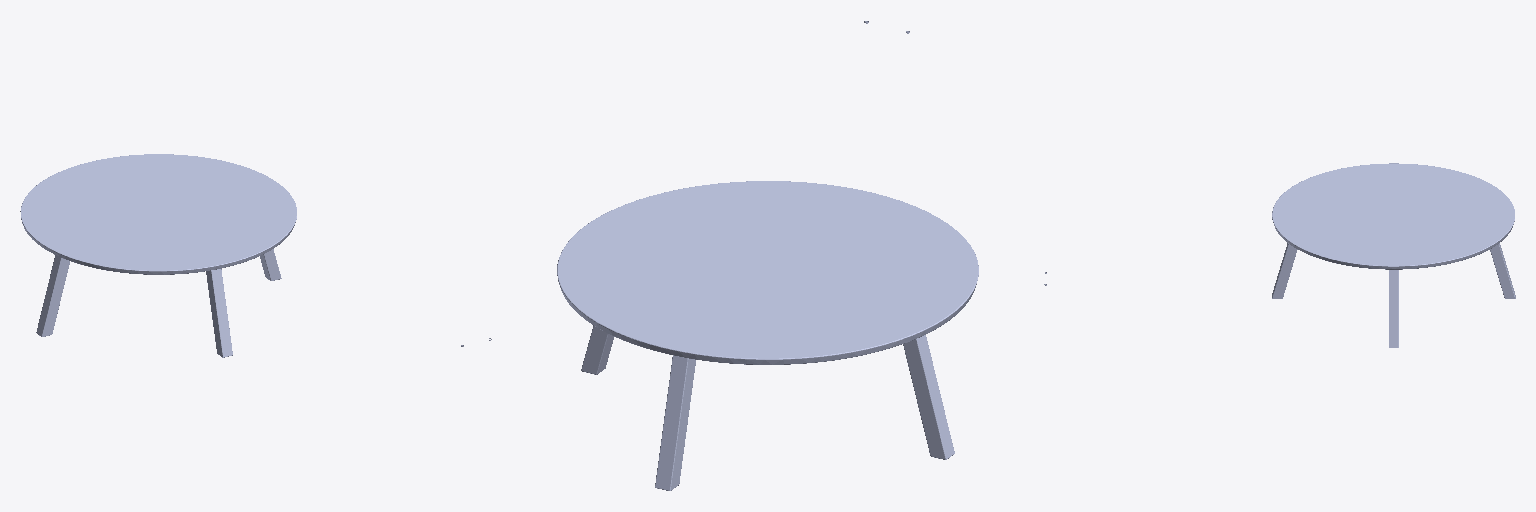
URDF robot description (coffee_table_ikea):
<robot
  name="coffee_table_ikea">
  <link
    name="coffee_table_ikea">
    <inertial>
      <origin
        xyz="4.9237E-09 4.84289999776448E-09 -0.03651"
        rpy="0 0 0" />
      <mass
        value="15.206" />
      <inertia
        ixx="0.894366231096589"
        ixy="-1.53128735327604E-11"
        ixz="-6.00336415502349E-09"
        iyy="0.89436623247841"
        iyz="6.01758851973607E-09"
        izz="1.63663368535716" />
    </inertial>
    <visual>
      <origin
        xyz="0 0 0"
        rpy="0 0 0" />
      <geometry>
        <mesh
          filename="package://coffee_table_ikea/meshes/coffee_table_ikea.dae" />
      </geometry>
      <material
        name="">
        <color
          rgba="0.79216 0.81961 0.93333 1" />
      </material>
    </visual>
    <collision>
      <origin
        xyz="0 0 0"
        rpy="0 0 0" />
      <geometry>
        <mesh
          filename="package://coffee_table_ikea/meshes/coffee_table_ikea.dae" />
      </geometry>
    </collision>
  </link>
</robot>

--- Render facts (derived) ---
3 views of the same robot in one strip: view 1: azimuth 30°, elevation 25°; view 2: azimuth 150°, elevation 25°; view 3: azimuth 270°, elevation 25° (orthographic).
Robot: coffee_table_ikea — 1 links, 0 joints (none); root link coffee_table_ikea; default pose: all joints at 0.
Links seen in each view (by area): view 1: coffee_table_ikea; view 2: coffee_table_ikea; view 3: coffee_table_ikea.
Boxes of the visible links, x1,y1,x2,y2 form: coffee_table_ikea: (20, 154, 491, 357); coffee_table_ikea: (557, 21, 978, 490); coffee_table_ikea: (1044, 163, 1515, 347).
Size in the robot's own frame: 0.985 by 1.8 by 0.35 metres.
1 mesh visuals loaded from 1 distinct referenced files (1 Collada DAE).